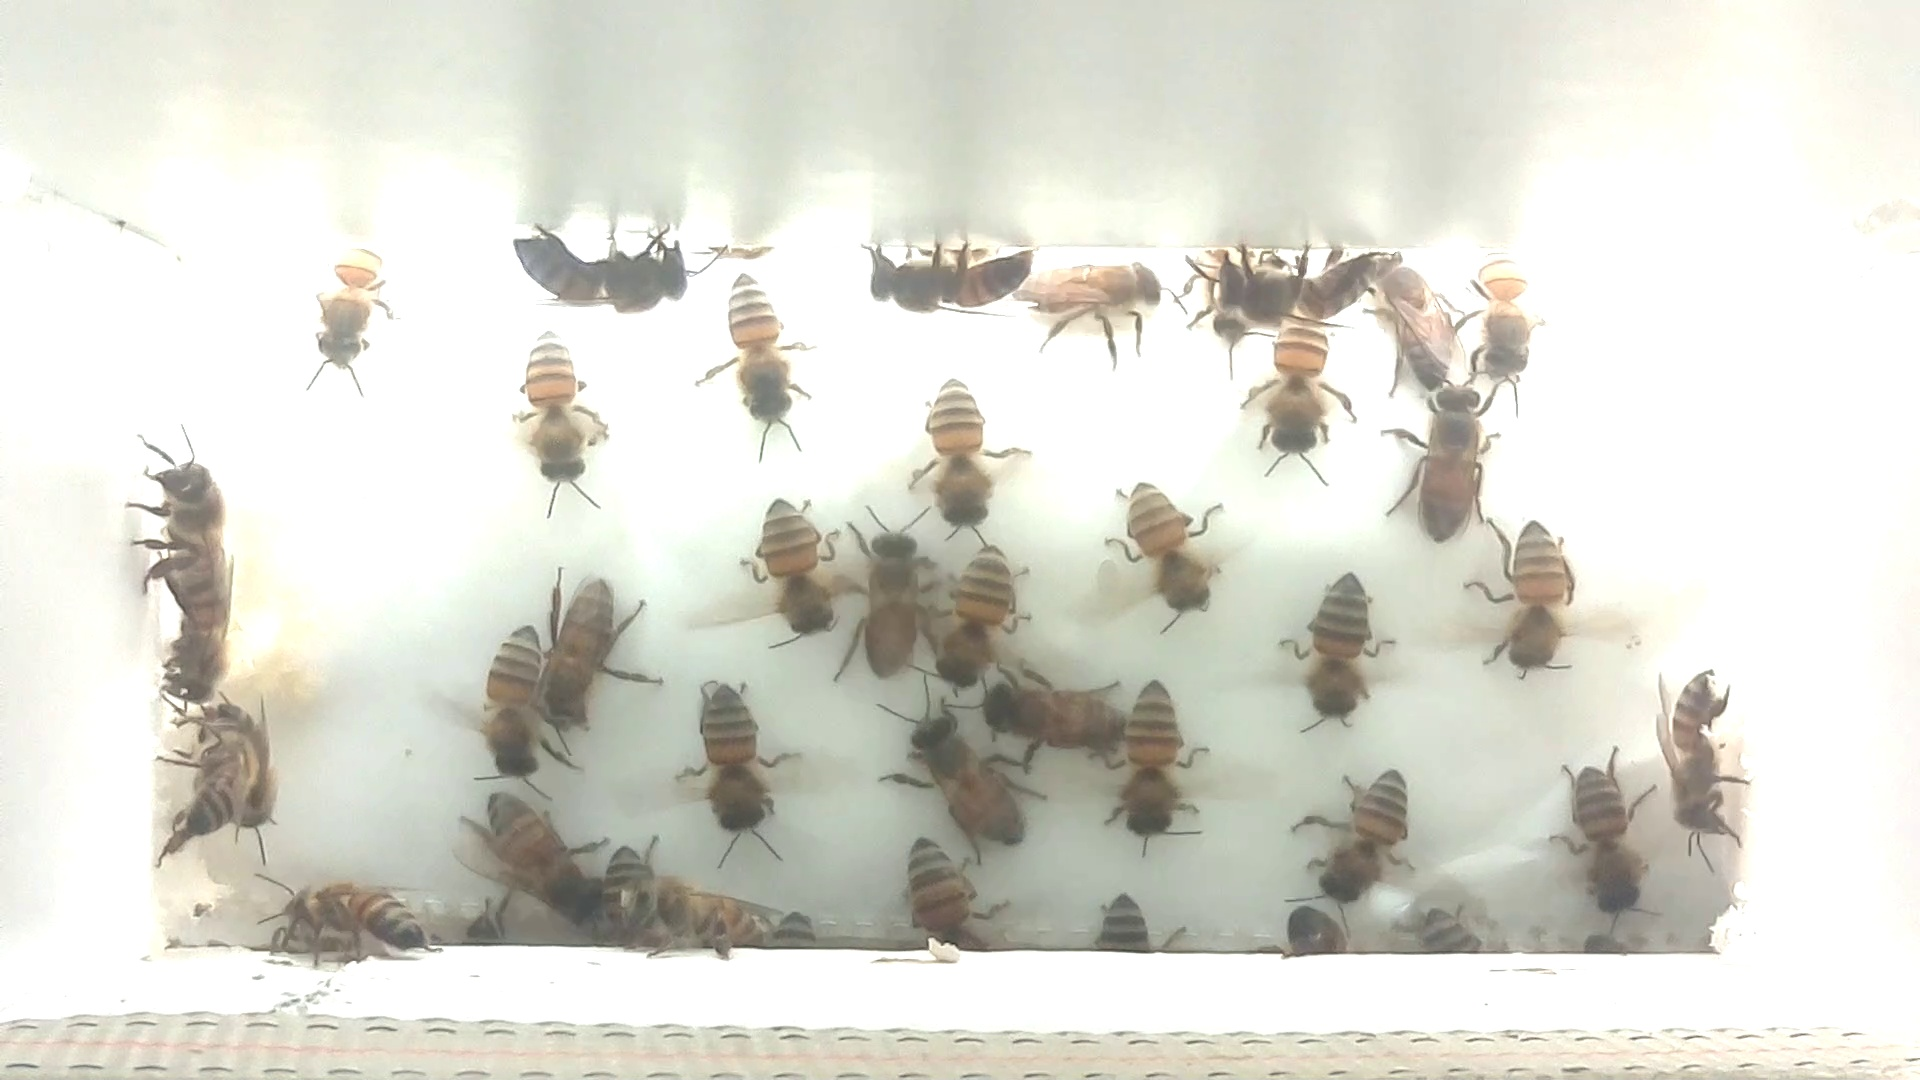bee: (102, 679, 328, 862), (647, 649, 822, 865), (483, 319, 641, 529), (439, 774, 636, 940), (872, 684, 1055, 860), (684, 261, 839, 468), (109, 400, 256, 604), (1088, 655, 1234, 858), (1224, 293, 1370, 493), (1269, 546, 1410, 749), (1081, 459, 1245, 633), (438, 622, 593, 804), (1458, 498, 1598, 700), (905, 513, 1044, 709), (1629, 653, 1754, 868), (719, 481, 868, 661), (520, 553, 661, 741), (276, 219, 414, 405), (898, 371, 1038, 549), (996, 240, 1183, 371), (1288, 748, 1435, 914), (1385, 355, 1509, 549), (828, 491, 942, 700), (125, 555, 266, 721), (233, 864, 444, 971), (502, 220, 716, 323), (961, 649, 1134, 775), (1544, 744, 1671, 916), (1354, 235, 1469, 421), (876, 823, 1023, 965), (851, 224, 1039, 328), (1458, 233, 1563, 419), (1209, 229, 1404, 328), (601, 861, 774, 968), (1081, 880, 1200, 959), (1253, 885, 1375, 961), (1400, 890, 1505, 960)
